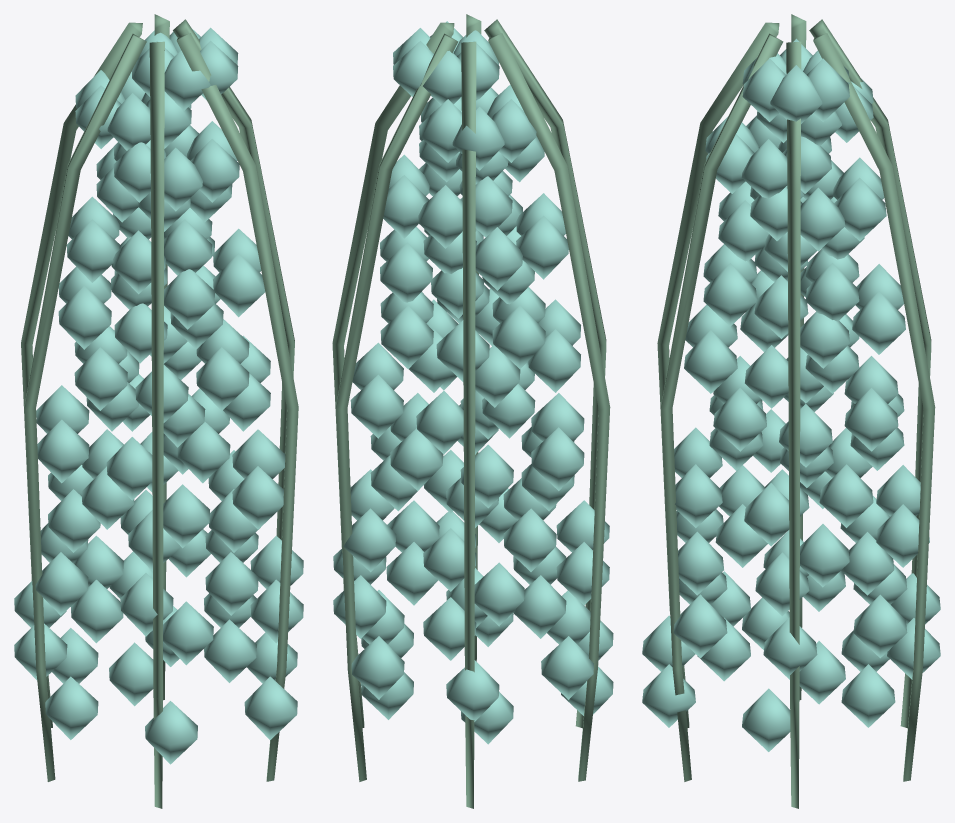
The model's file is succulent_burros_tail.glb.
3 renders of one model, left to right at view 1: azimuth 30°, elevation 25°; view 2: azimuth 150°, elevation 25°; view 3: azimuth 270°, elevation 25°, orthographic.
Parts seen in each view (by area): view 1: Flora_Burros_Tail; view 2: Flora_Burros_Tail; view 3: Flora_Burros_Tail.
Part boxes in pixels (bbox=[...]): Flora_Burros_Tail: bbox=[14, 14, 303, 808]; Flora_Burros_Tail: bbox=[332, 14, 613, 808]; Flora_Burros_Tail: bbox=[642, 14, 940, 808].
Bounding box in the file's own units: 0.2541 × 0.6339 × 0.2364.
